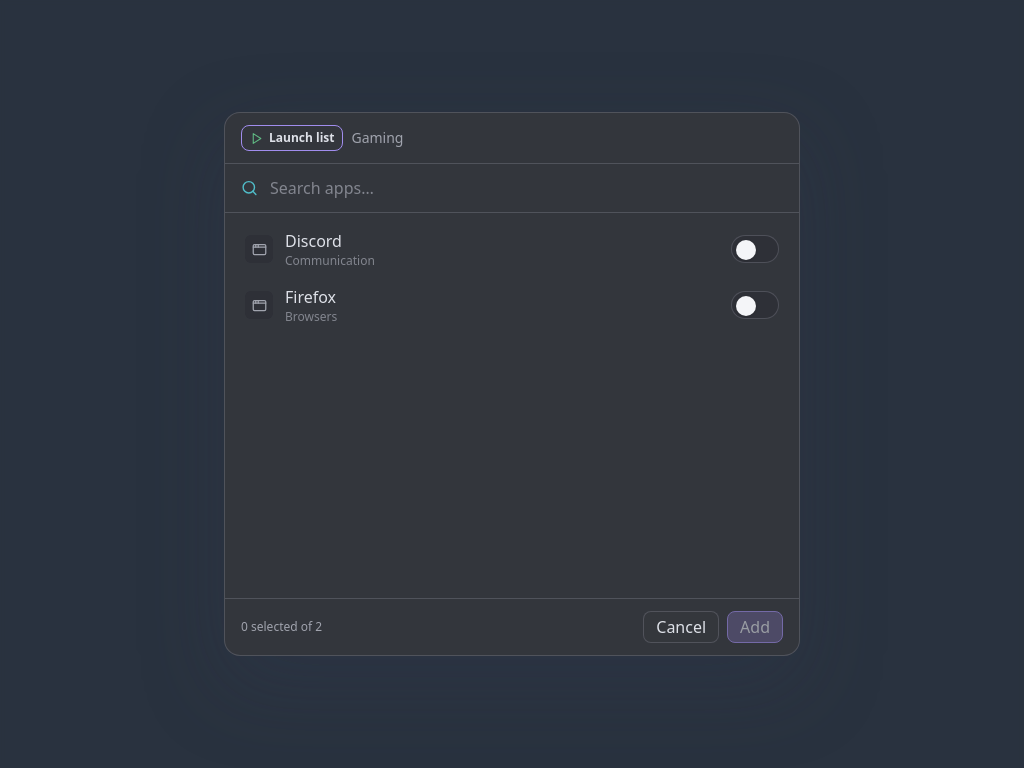
Scenario: AppPickerDialog › says so when nothing matches
The width and height of the screenshot is (1024, 768).
Type "zzz" into the search field named "Add an app to the launch list of Gaming" at (526, 188), box left=270, top=164, right=783, bottom=212
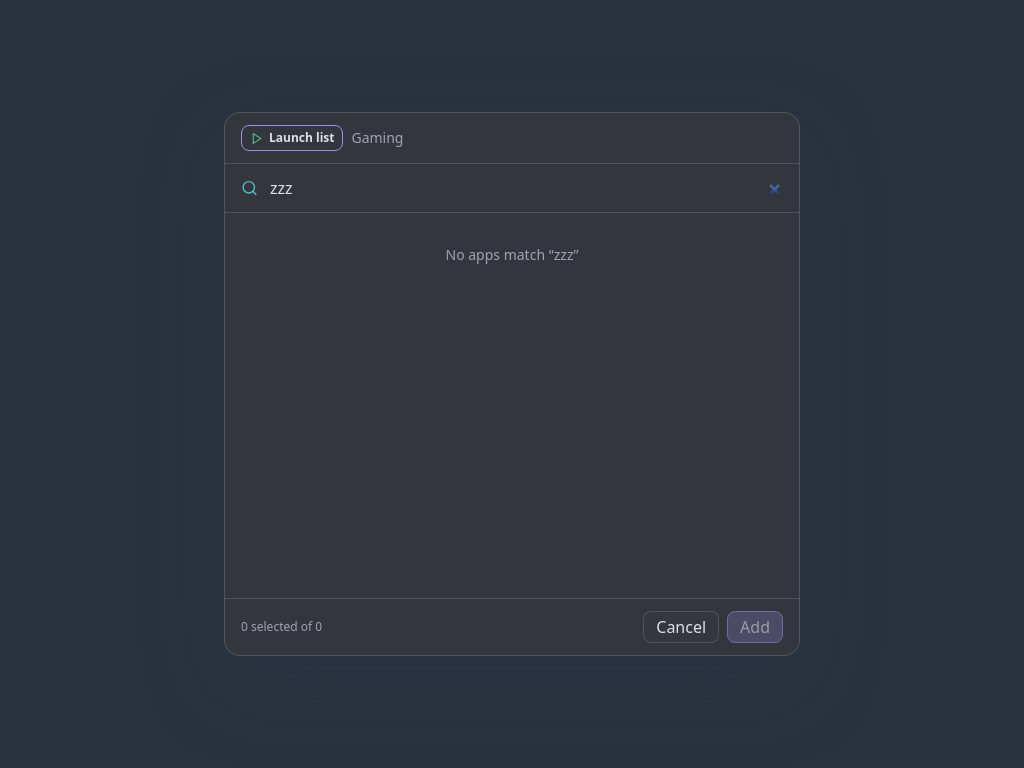
Now the list item "No apps match “zzz”" is shown, box left=446, top=245, right=578, bottom=264
